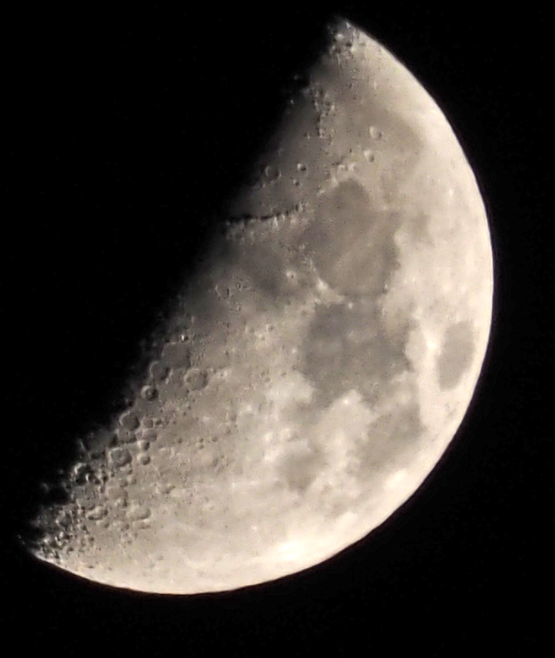crater: (433, 303, 479, 402), (182, 364, 215, 402), (117, 410, 152, 441), (259, 160, 284, 190), (282, 260, 304, 292), (365, 121, 388, 146), (138, 383, 162, 406), (133, 449, 153, 470), (362, 145, 380, 167), (274, 363, 290, 381)
